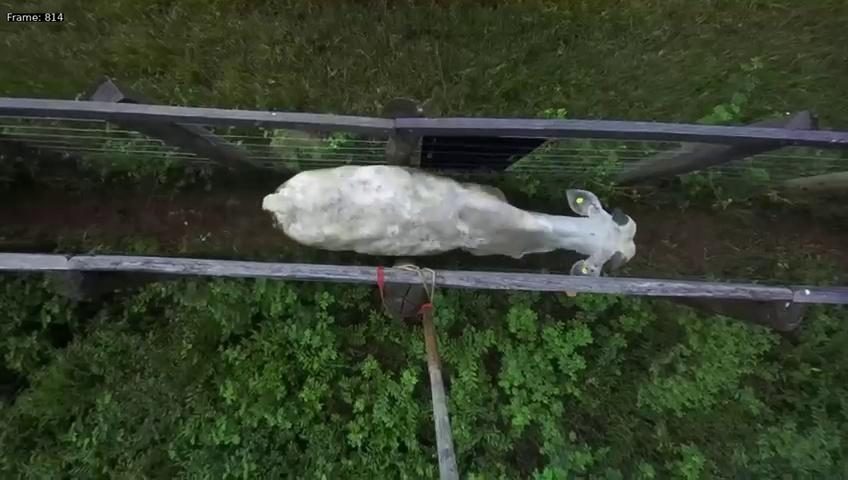cattle: (257, 127, 638, 275)
